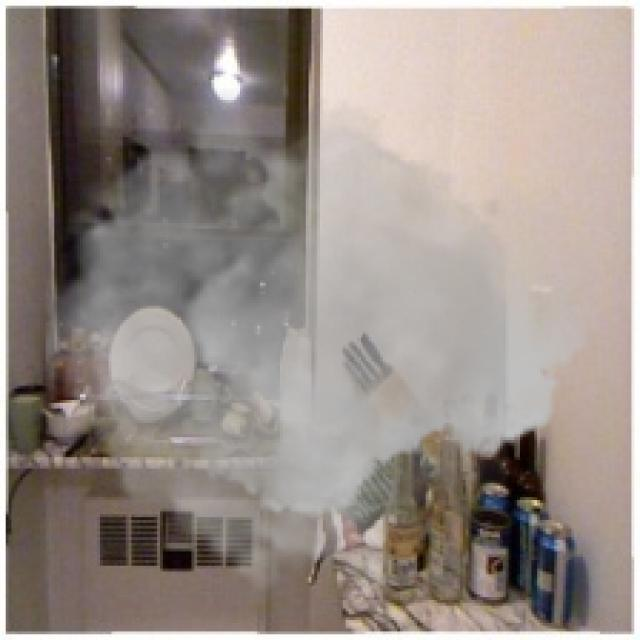Smoke: (45, 89, 600, 612)
